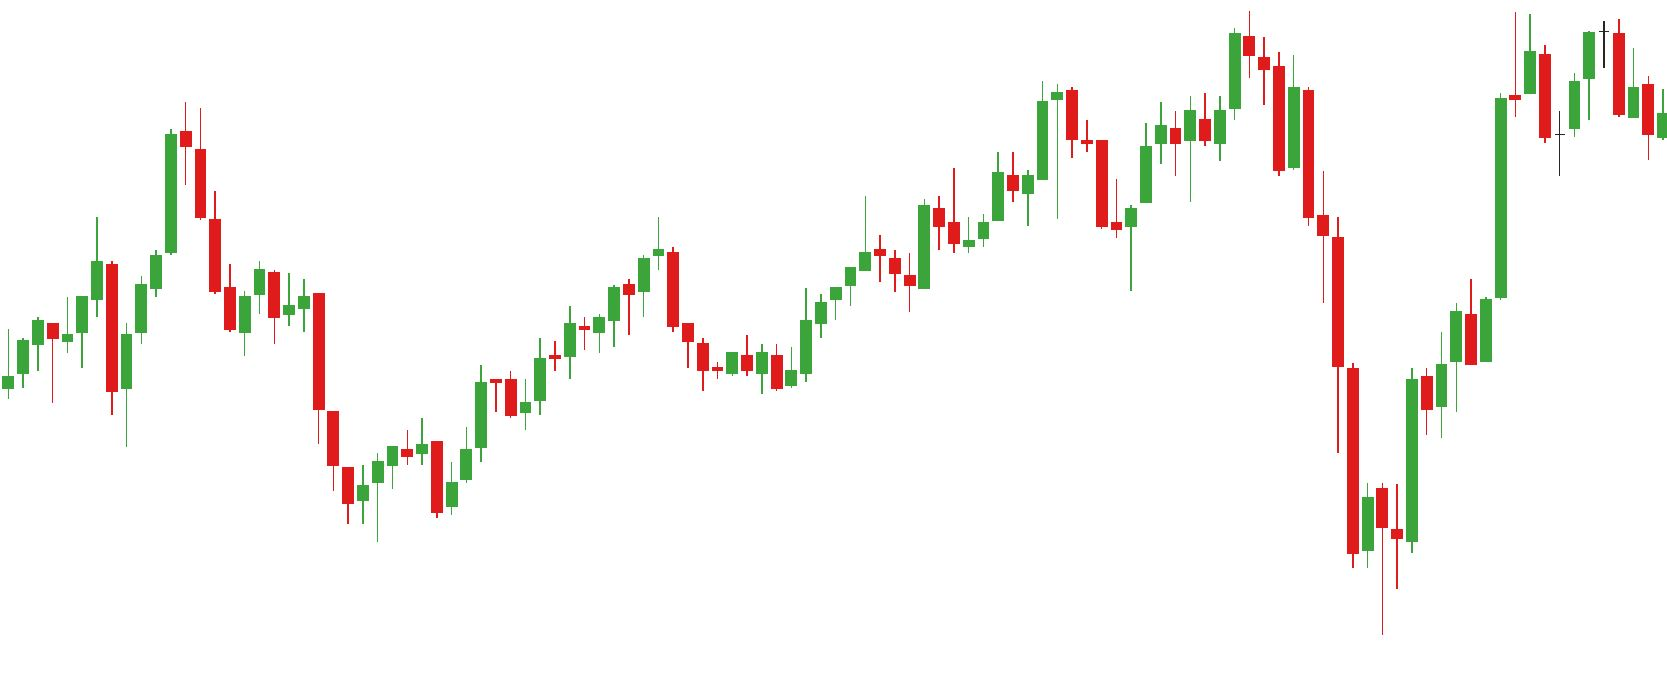buy: (960, 152, 1136, 299), (47, 308, 135, 445)
sell: (91, 101, 211, 267)
